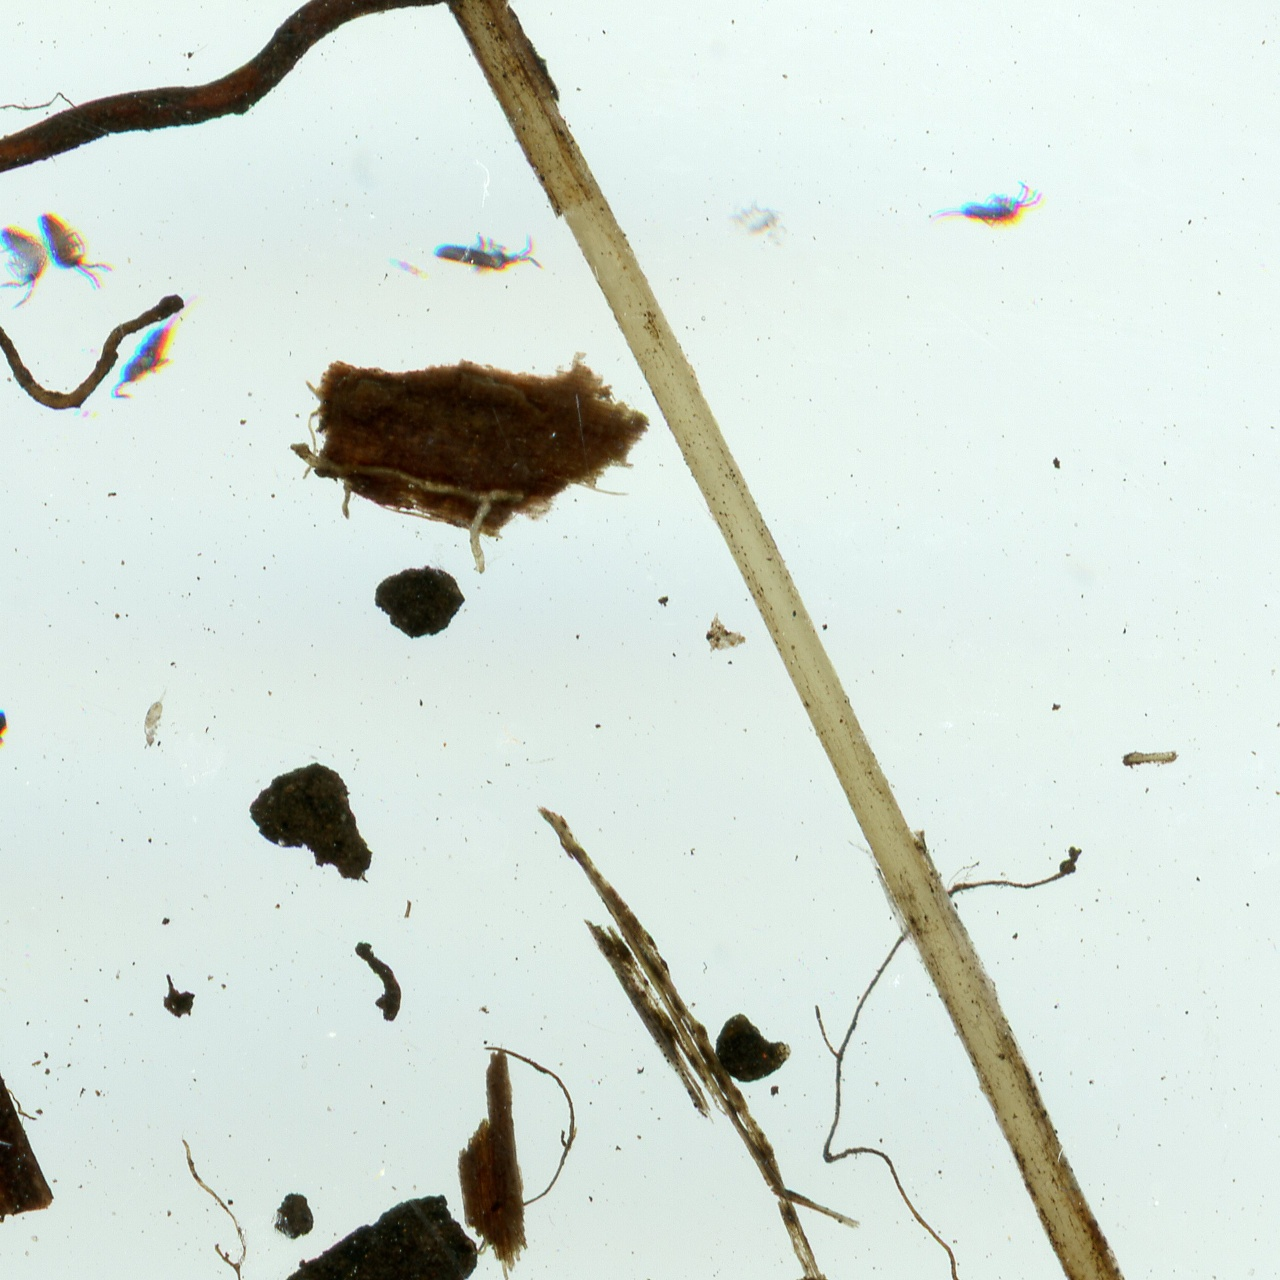arthropod: (98, 268, 222, 418), (32, 191, 122, 305), (925, 176, 1050, 236), (0, 211, 67, 318), (429, 227, 546, 278), (0, 687, 23, 798), (141, 680, 172, 755)
